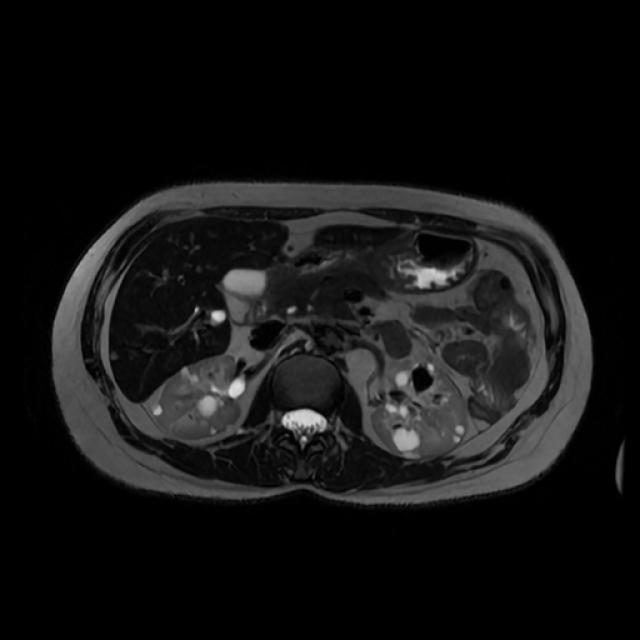sag: (157, 357, 242, 438)
sol: (372, 356, 470, 456)
